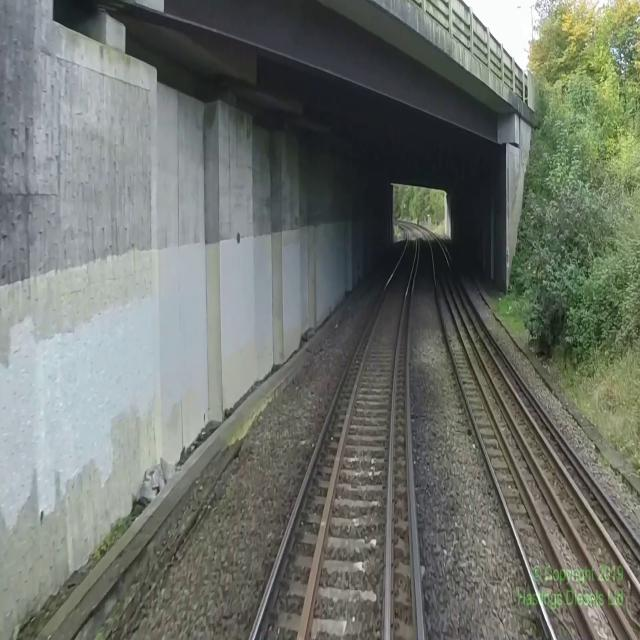rail-track: (412, 225, 640, 639), (254, 226, 419, 639)
